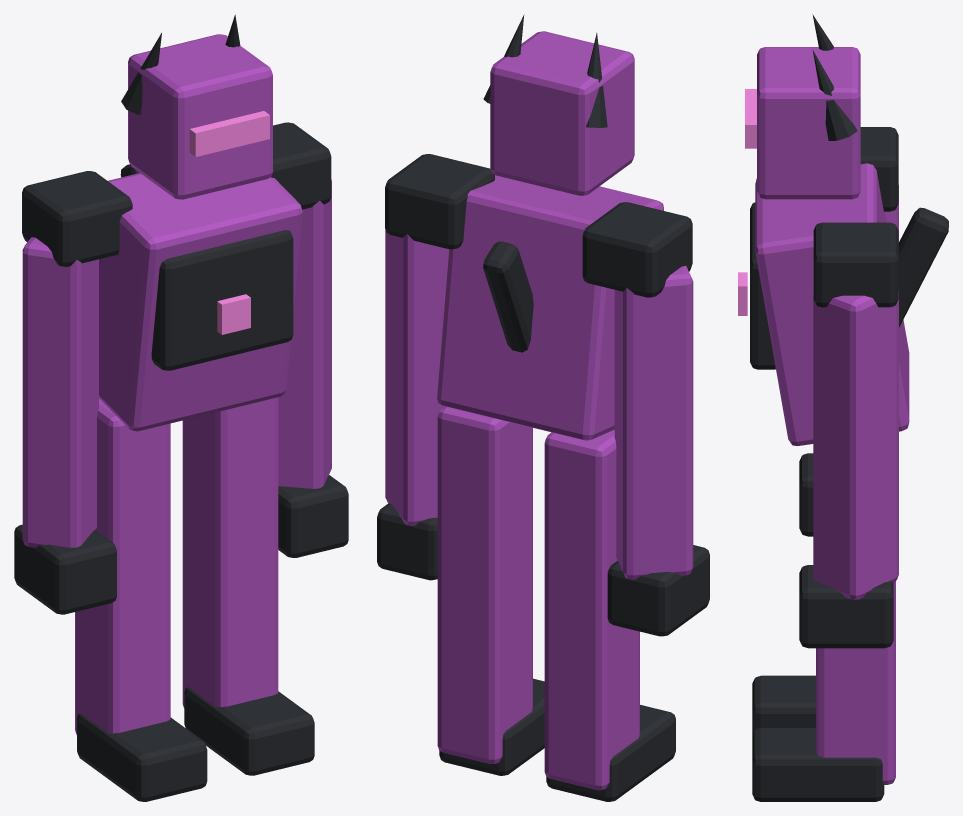
The model's file is EnemyRunner.fbx.
The picture shows the model from 3 angles, left to right: view 1: azimuth 30°, elevation 25°; view 2: azimuth 150°, elevation 25°; view 3: azimuth 270°, elevation 25°; orthographic projection.
Visible parts, largest first — view 1: LegR, Torso, LegL, ArmL, Head, ChestPlate, ArmR, BootL, BootR, PauldronL, ClawL, ClawR (+4 smaller); view 2: Torso, LegR, LegL, ArmL, Head, ArmR, PauldronL, PauldronR, ClawL, BootL, SpineSpike, ClawR (+2 smaller); view 3: ArmR, Torso, Head, LegR, BootR, PauldronR, ClawR, BootL, SpineSpike, PauldronL, ChestPlate, HornR (+3 smaller).
Part boxes in pixels (<box>): LegR: <box>182,397,278,708</box>; Torso: <box>99,173,302,431</box>; LegL: <box>75,398,170,734</box>; ArmL: <box>22,237,98,547</box>; Head: <box>128,34,272,199</box>; ChestPlate: <box>151,230,293,370</box>; ArmR: <box>278,179,331,488</box>; BootL: <box>77,713,207,801</box>; BootR: <box>184,687,314,775</box>; PauldronL: <box>22,171,132,266</box>; ClawL: <box>14,524,116,614</box>; ClawR: <box>278,475,348,557</box>; Torso: <box>437,175,663,440</box>; LegR: <box>437,406,532,763</box>; LegL: <box>544,429,639,790</box>; ArmL: <box>614,265,693,579</box>; Head: <box>490,31,634,195</box>; ArmR: <box>385,230,449,525</box>; PauldronL: <box>582,202,692,297</box>; PauldronR: <box>385,154,494,249</box>; ClawL: <box>607,545,709,636</box>; BootL: <box>546,705,675,801</box>; SpineSpike: <box>483,241,533,352</box>; ClawR: <box>377,503,437,580</box>; ArmR: <box>813,291,898,599</box>; Torso: <box>755,163,909,445</box>; Head: <box>757,47,860,199</box>; LegR: <box>816,581,895,784</box>; BootR: <box>752,727,884,801</box>; PauldronR: <box>813,222,898,307</box>; ClawR: <box>799,565,893,648</box>; BootL: <box>752,675,815,734</box>; SpineSpike: <box>898,207,948,327</box>; PauldronL: <box>860,127,898,211</box>; ChestPlate: <box>750,202,775,369</box>; HornR: <box>812,50,857,140</box>.
Bounding box in the file's own units: 0.7436 × 1.71 × 0.4469.
